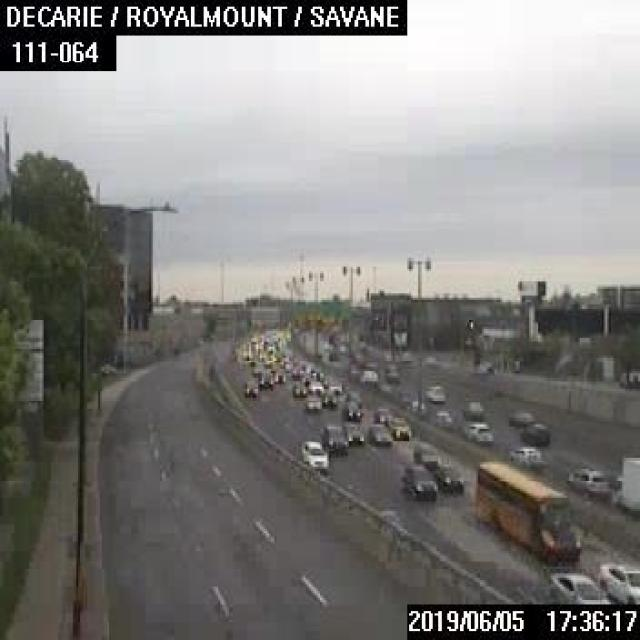bus: (475, 459, 580, 564)
vehicle: (548, 568, 612, 602), (611, 456, 638, 516), (598, 562, 638, 602), (566, 464, 612, 496), (400, 464, 438, 502), (431, 461, 463, 492), (320, 424, 348, 456), (300, 438, 328, 470), (460, 420, 495, 444), (506, 445, 545, 466), (518, 419, 551, 443), (411, 441, 439, 466), (366, 421, 393, 446), (387, 414, 411, 438), (341, 421, 365, 445), (460, 398, 482, 420), (424, 381, 446, 402), (341, 399, 362, 420), (507, 410, 534, 426), (432, 408, 452, 427), (372, 405, 392, 423), (256, 368, 274, 388), (303, 394, 322, 411), (242, 379, 258, 397), (321, 389, 336, 406), (291, 379, 306, 396)
